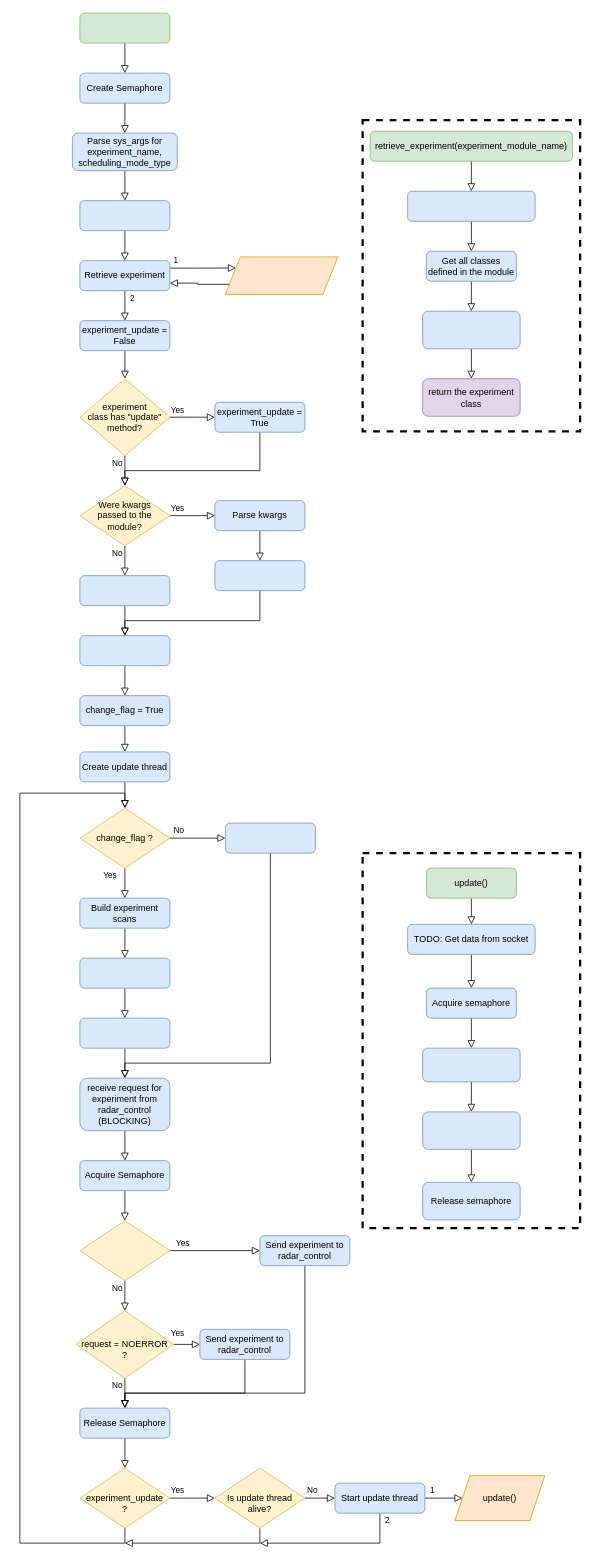
This 594x1564 diagram has some shape labels left out. Each missing label, with the centre of its shape:
change_flag = False: point 124,1032
Create Experiment object: point 124,590
Create Experiment object with kwargs: point 259,575
Create sockets: point 124,215
If changes were made, then rebuild experiment scans: point 471,1130
Import classes from experiment_module_name.py: point 471,205
main(sys_args): point 124,27
Remove any classes that don't inherit from ExperimentPrototype: point 471,329
request = EXPNEEDED?: point 124,1250
retrieve_experiment(): point 281,275
Serialize the experiment: point 124,972
serialized_exp = pickled.dumps(None): point 270,837
Set experiment scheduling mode: point 124,650
Update the experiment: point 471,1064
